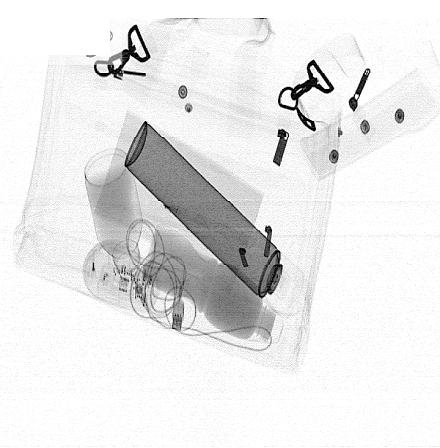Sprayer: (125, 121, 304, 318)
